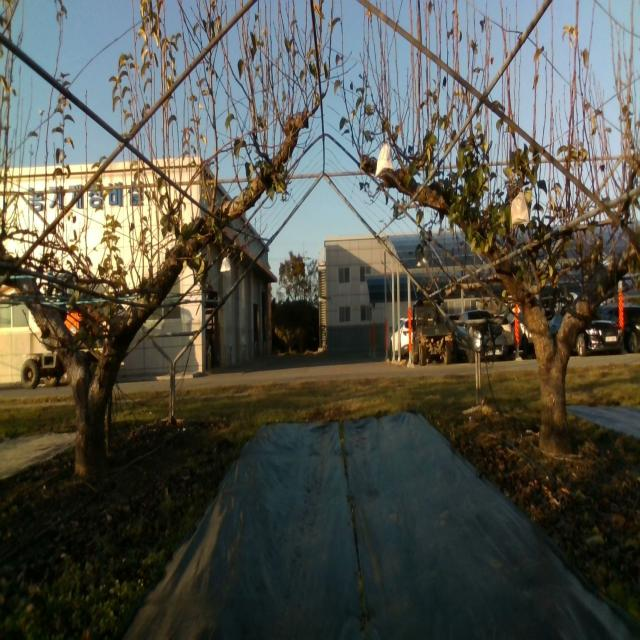pearbags: (510, 188, 530, 230), (375, 143, 394, 177), (220, 255, 232, 273)
